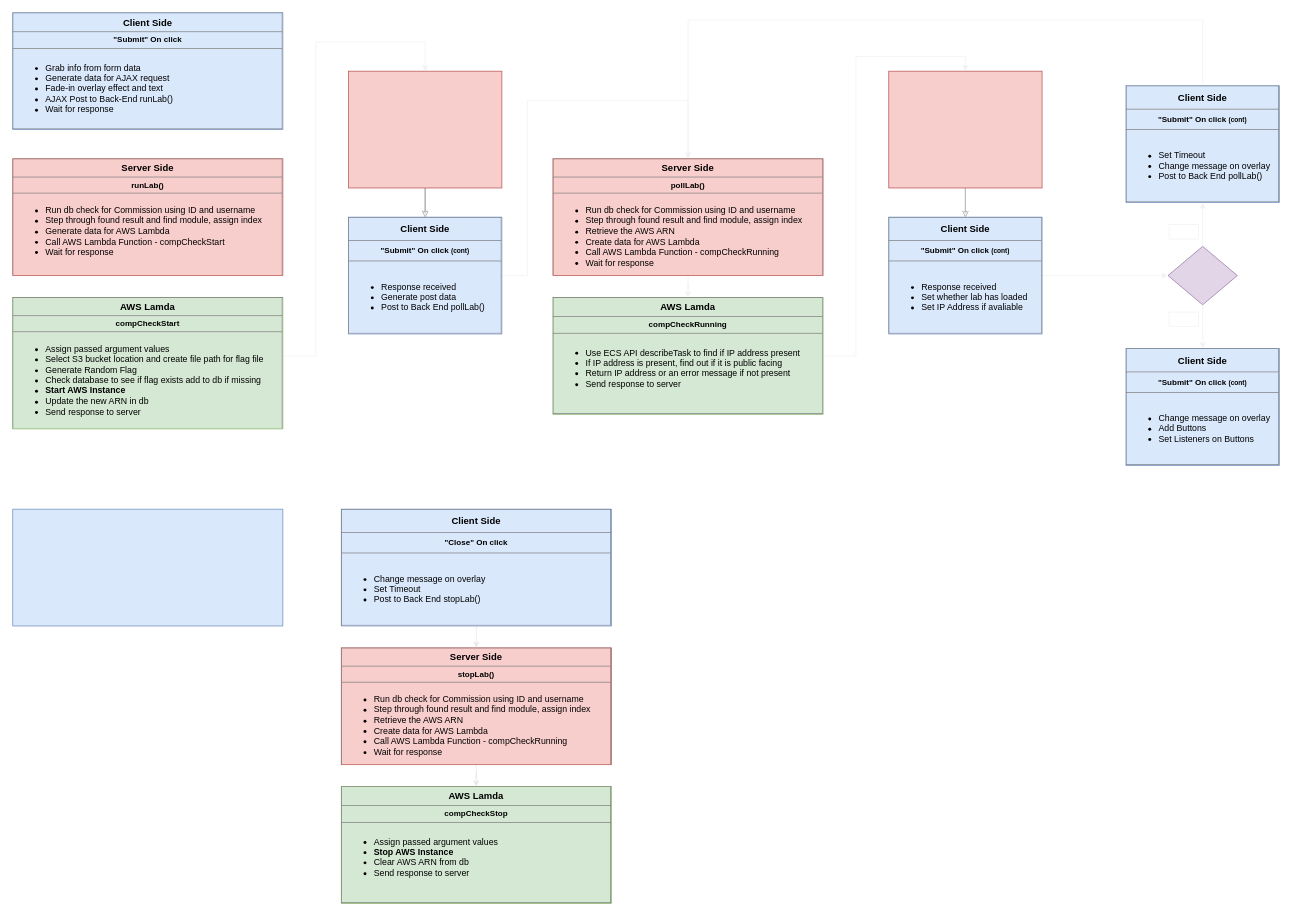
The diagram is 1292 pixels wide and 916 high, and some of its shapes have lost their labels. Each missing label, with the centre of its shape:
Client Side "Open" On click Opens set url in a blank browser tab: [147,567]
Has Lab Loaded?: [1202,275]
Server Side pollLab() (cont) Response received Send response to client: [965,129]
Server Side runLab() (cont) Response received Send response to client: [425,129]
